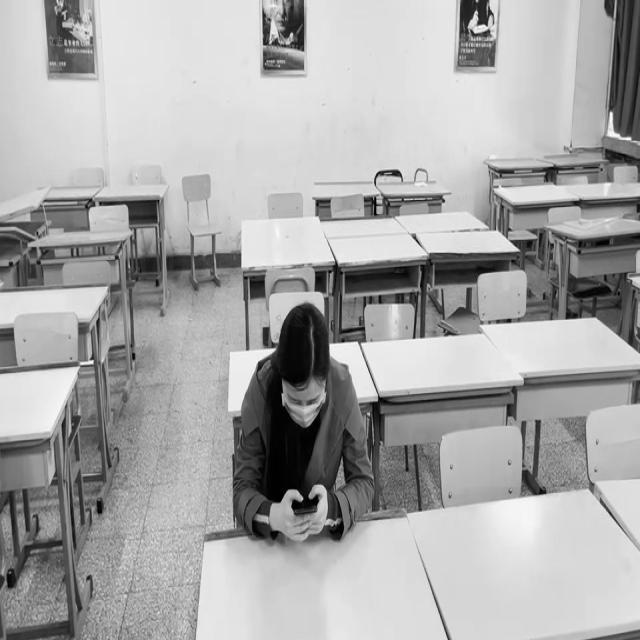phone: (234, 304, 375, 543)
